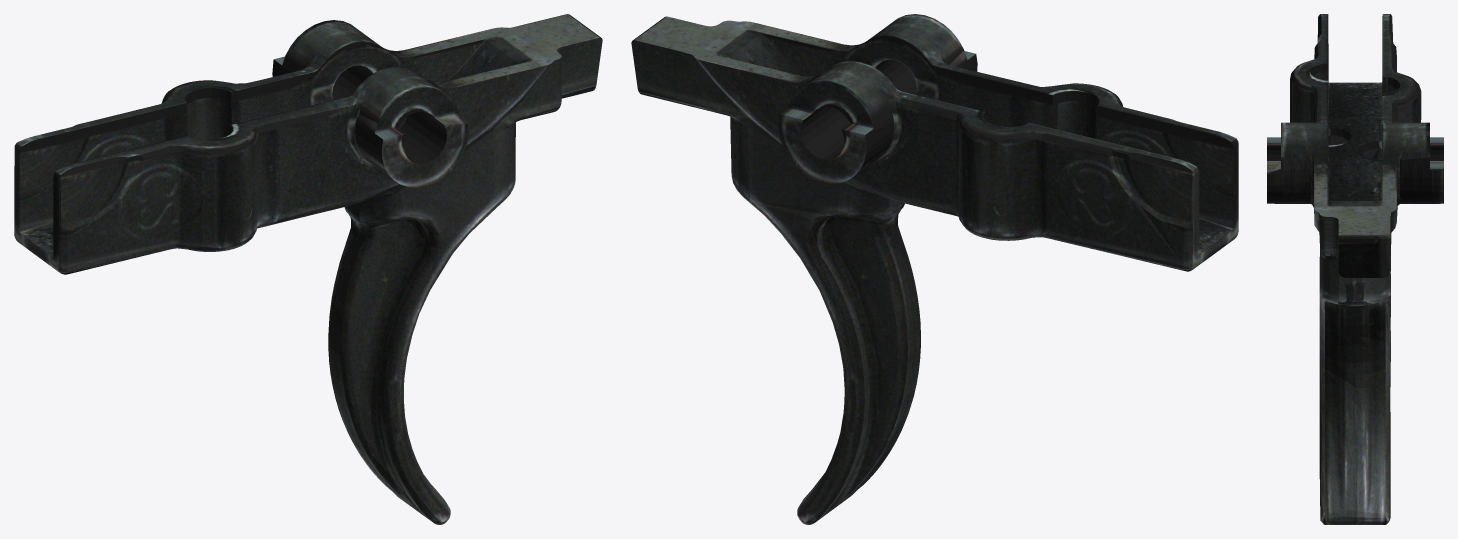
File: Trigger.dae
3 renders of one model, left to right at view 1: azimuth 30°, elevation 25°; view 2: azimuth 150°, elevation 25°; view 3: azimuth 270°, elevation 25°, orthographic. The views are drawn at different scales.
Parts seen in each view (by area): view 1: Trigger; view 2: Trigger; view 3: Trigger.
Boxes of the visible parts, box(x1,y1,x2,y2) form: Trigger: box(14, 14, 602, 524); Trigger: box(631, 14, 1238, 524); Trigger: box(1267, 14, 1443, 524).
Size of the model in its own units: 0.0495 by 0.0169 by 0.0398.
Materials: 1 (1 with a texture image).
